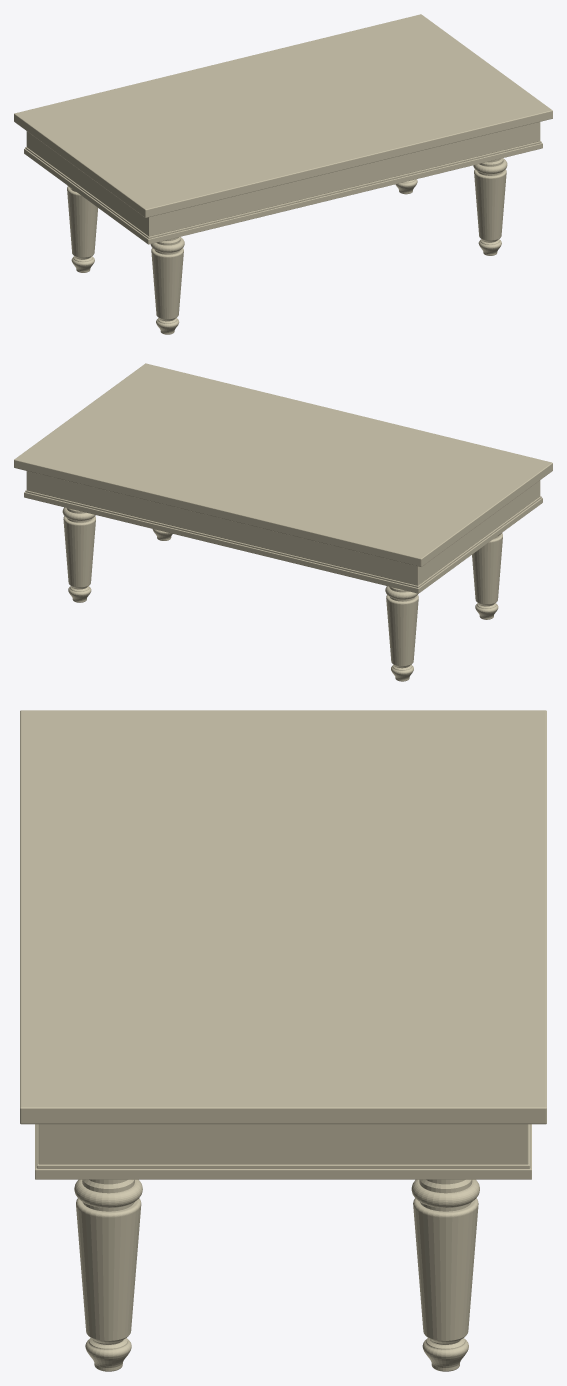
The model's file is tvStand.fbx.
3 views of the same model, one above another, from view 1: azimuth 30°, elevation 25°; view 2: azimuth 150°, elevation 25°; view 3: azimuth 270°, elevation 25° (orthographic). The views are drawn at different scales.
Parts seen in each view (by area): view 1: table maga; view 2: table maga; view 3: table maga.
Boxes of the visible parts, <box> form: table maga: <box>14,14,552,334</box>; table maga: <box>14,363,552,681</box>; table maga: <box>20,710,546,1371</box>.
Size of the model in its own units: 492 by 172 by 276.
